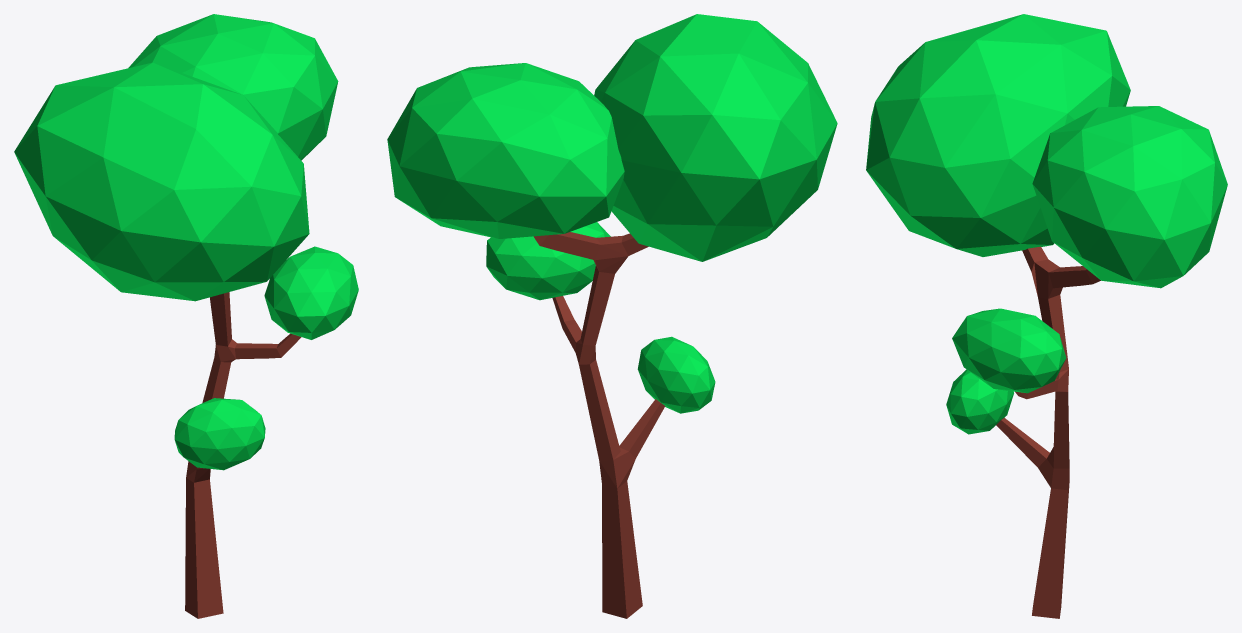
File: Tree.fbx
The picture shows the model from 3 angles, left to right: view 1: azimuth 30°, elevation 25°; view 2: azimuth 150°, elevation 25°; view 3: azimuth 270°, elevation 25°; orthographic projection. The views are drawn at different scales.
Visible parts, largest first — view 1: Tree; view 2: Tree; view 3: Tree.
Part boxes in pixels (left/top/right/bottom): Tree: left=14, top=14, right=358, bottom=618; Tree: left=387, top=14, right=837, bottom=618; Tree: left=866, top=14, right=1227, bottom=618.
Size of the model in its own units: 264 by 414 by 245.
